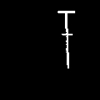double_crochet: (58, 11, 74, 67)
